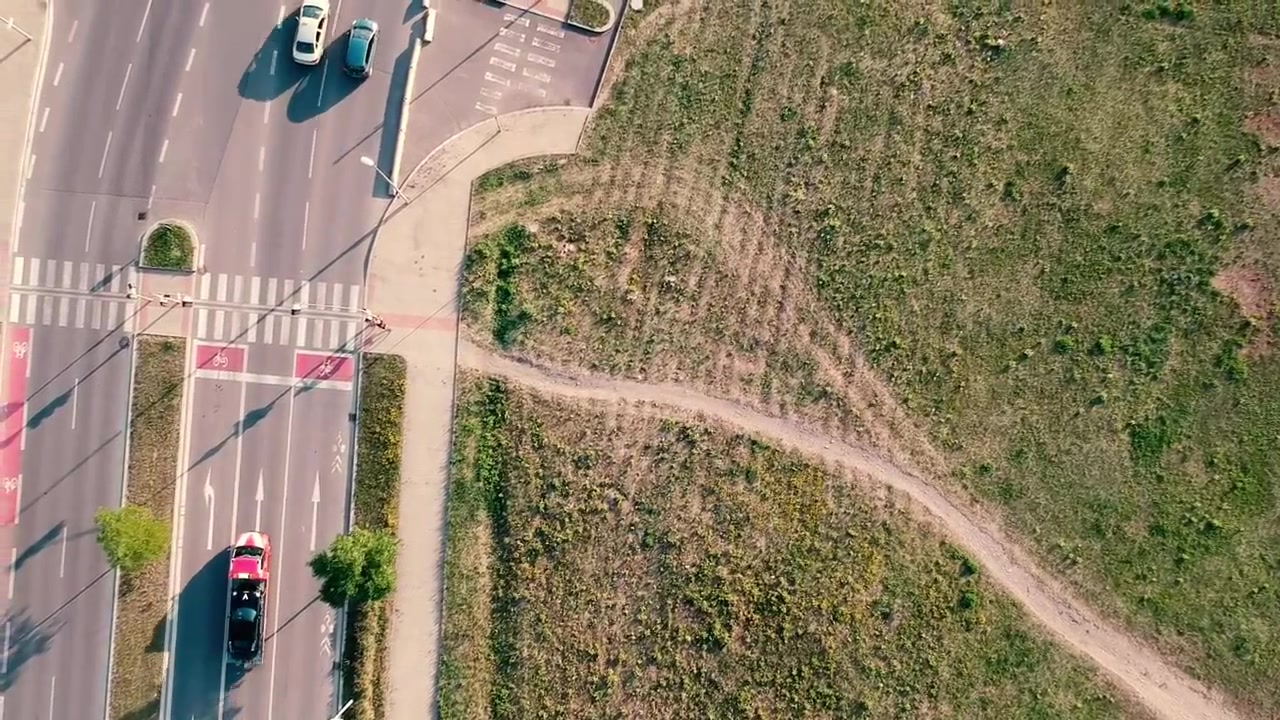car: (222, 530, 275, 671), (292, 1, 334, 68), (342, 15, 382, 83)
